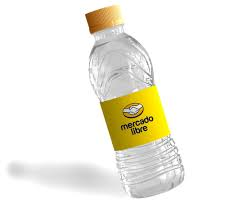Botella: (87, 6, 183, 197)
